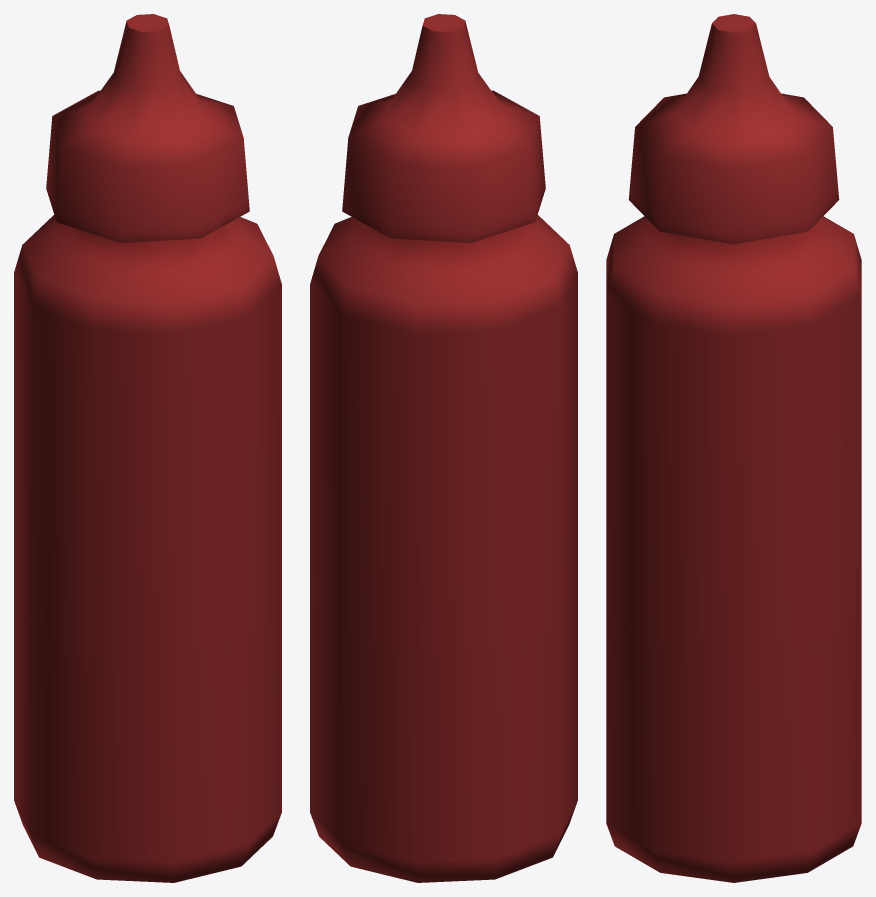
Rendered from ketchup_01.fbx.
The picture shows the model from 3 angles, left to right: view 1: azimuth 30°, elevation 25°; view 2: azimuth 150°, elevation 25°; view 3: azimuth 270°, elevation 25°; orthographic projection.
Visible parts, largest first — view 1: ketchup_01_ready; view 2: ketchup_01_ready; view 3: ketchup_01_ready.
Part boxes in pixels (x1,y1,x2,y2): ketchup_01_ready: (14,14,281,882); ketchup_01_ready: (310,14,577,882); ketchup_01_ready: (606,14,861,882).
Bounding box in the file's own units: 12.89 × 43.13 × 12.26.
